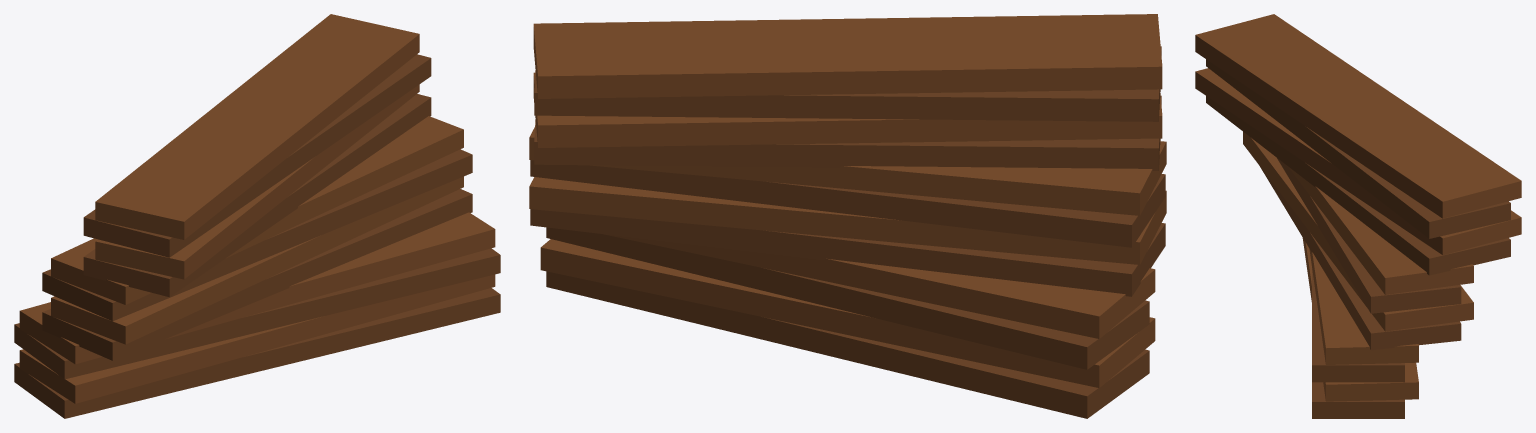
File: Plank_Hard.fbx
The picture shows the model from 3 angles, left to right: view 1: azimuth 30°, elevation 25°; view 2: azimuth 150°, elevation 25°; view 3: azimuth 270°, elevation 25°; orthographic projection. The views are drawn at different scales.
Visible parts, largest first — view 1: Plank_Hard__Stack, Plank_Hard; view 2: Plank_Hard__Stack, Plank_Hard; view 3: Plank_Hard__Stack, Plank_Hard.
Boxes of the visible parts, <box> form: Plank_Hard__Stack: <box>42,14,472,360</box>; Plank_Hard: <box>14,212,500,418</box>; Plank_Hard__Stack: <box>529,14,1166,296</box>; Plank_Hard: <box>540,227,1155,418</box>; Plank_Hard__Stack: <box>1195,14,1521,350</box>; Plank_Hard: <box>1302,238,1418,418</box>.
Bounding box in the file's own units: 0.3055 × 0.151 × 0.2102.
